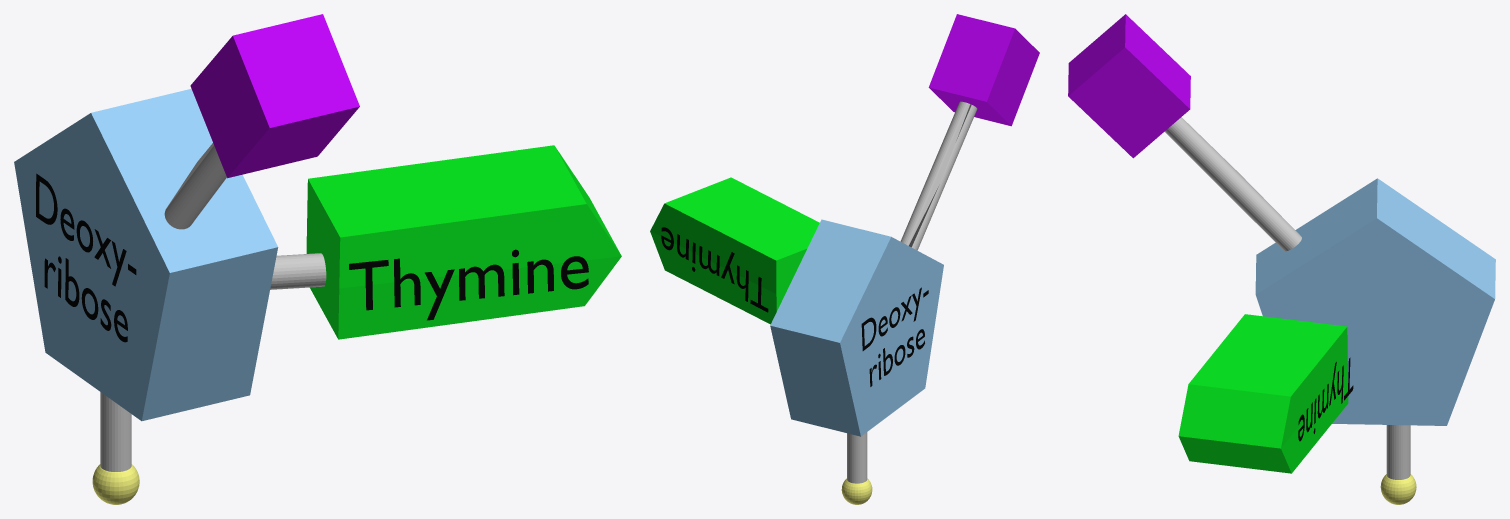
The model's file is thymine.glb.
The picture shows the model from 3 angles, left to right: view 1: azimuth 30°, elevation 25°; view 2: azimuth 150°, elevation 25°; view 3: azimuth 270°, elevation 25°; orthographic projection. The views are drawn at different scales.
Visible parts, largest first — view 1: Deoxyribose.001, Connector_Ribose_Base.003, Phosphate.003, ThymineText.002, Thymine, Text.004; view 2: Deoxyribose.001, Connector_Ribose_Base.003, Phosphate.003, Thymine, Text.004, ThymineText; view 3: Deoxyribose.001, Connector_Ribose_Base.003, Phosphate.003, Thymine, ThymineText.
Boxes of the visible parts, x1,y1,x2,y2 form: Deoxyribose.001: (14,88,278,421); Connector_Ribose_Base.003: (270,145,621,339); Phosphate.003: (164,14,359,229); ThymineText.002: (349,249,588,320); Thymine: (92,392,139,504); Text.004: (36,173,136,342); Deoxyribose.001: (770,219,943,436); Connector_Ribose_Base.003: (650,177,819,324); Phosphate.003: (900,14,1039,250); Thymine: (841,432,872,504); Text.004: (861,287,928,386); ThymineText: (661,227,768,312); Deoxyribose.001: (1255,178,1495,425); Connector_Ribose_Base.003: (1178,314,1348,473); Phosphate.003: (1068,14,1301,251); Thymine: (1380,425,1416,504); ThymineText: (1298,357,1353,441).
Size of the model in its own units: 1.28 by 1.63 by 1.36.
